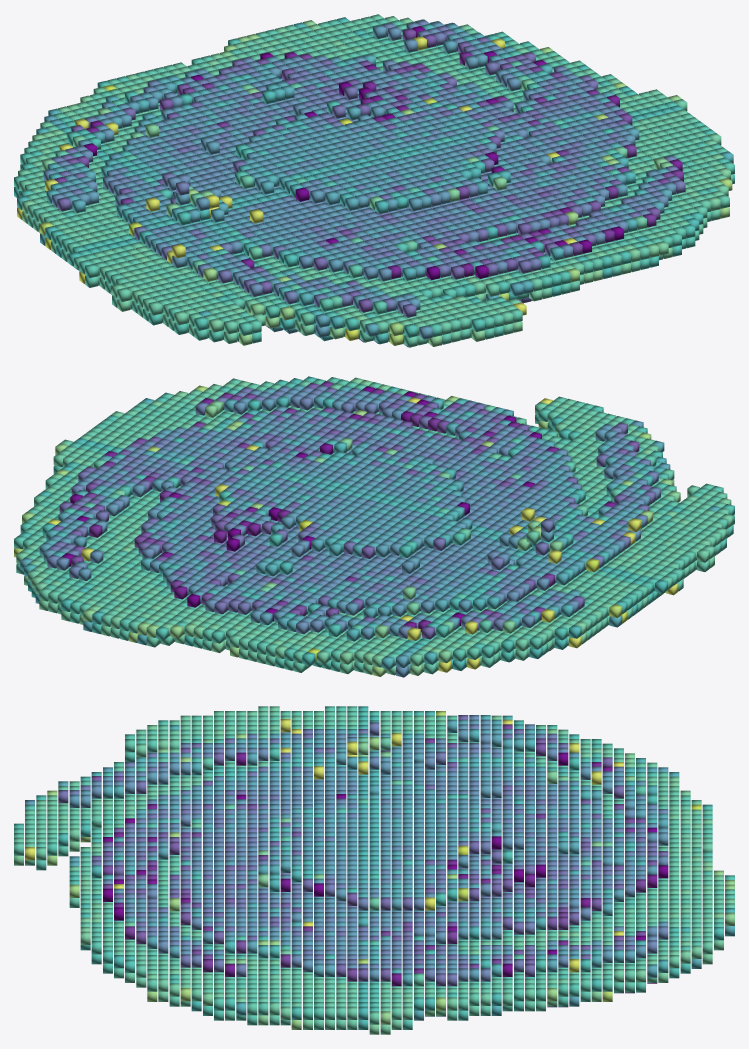
Rendered from system_mass_D.gltf.
3 views of the same model, one above another, from view 1: azimuth 30°, elevation 25°; view 2: azimuth 150°, elevation 25°; view 3: azimuth 270°, elevation 25° (orthographic). The views are drawn at different scales.
Visible parts, largest first — view 1: Renderer Node; view 2: Renderer Node; view 3: Renderer Node.
Boxes of the visible parts, x1,y1,x2,y2 form: Renderer Node: (14, 14, 734, 347); Renderer Node: (14, 376, 734, 677); Renderer Node: (14, 706, 734, 1034).
Size of the model in its own units: 84352 by 11392 by 83072.
